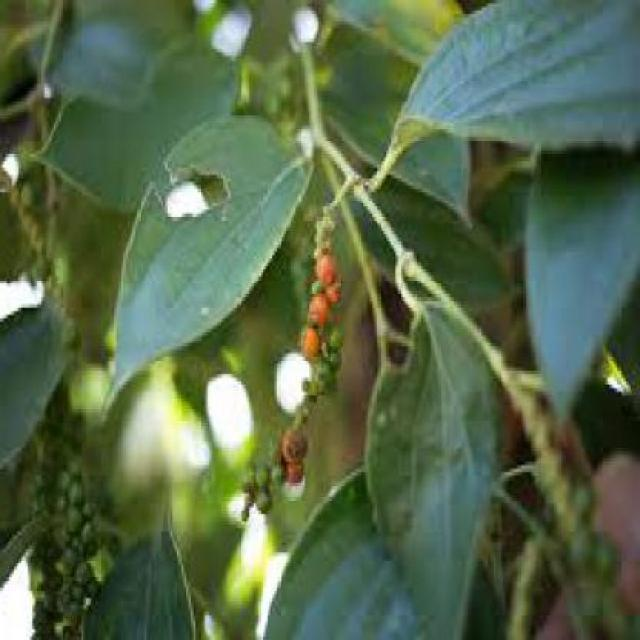RIPE: (298, 238, 361, 381)
